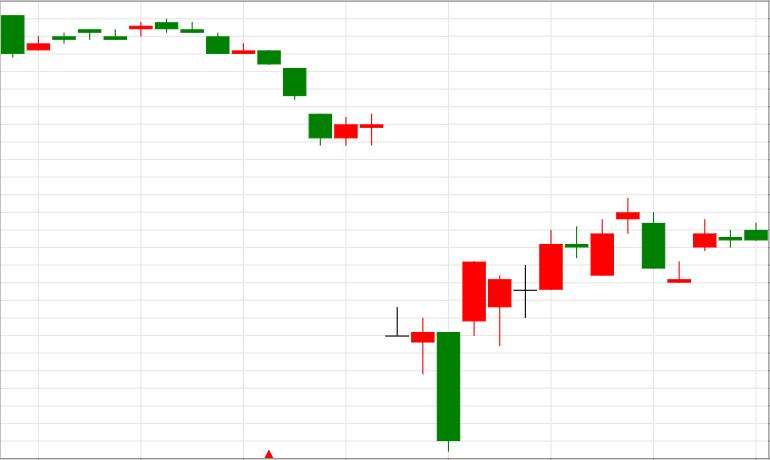evening_star_fall: (462, 199, 665, 346)
